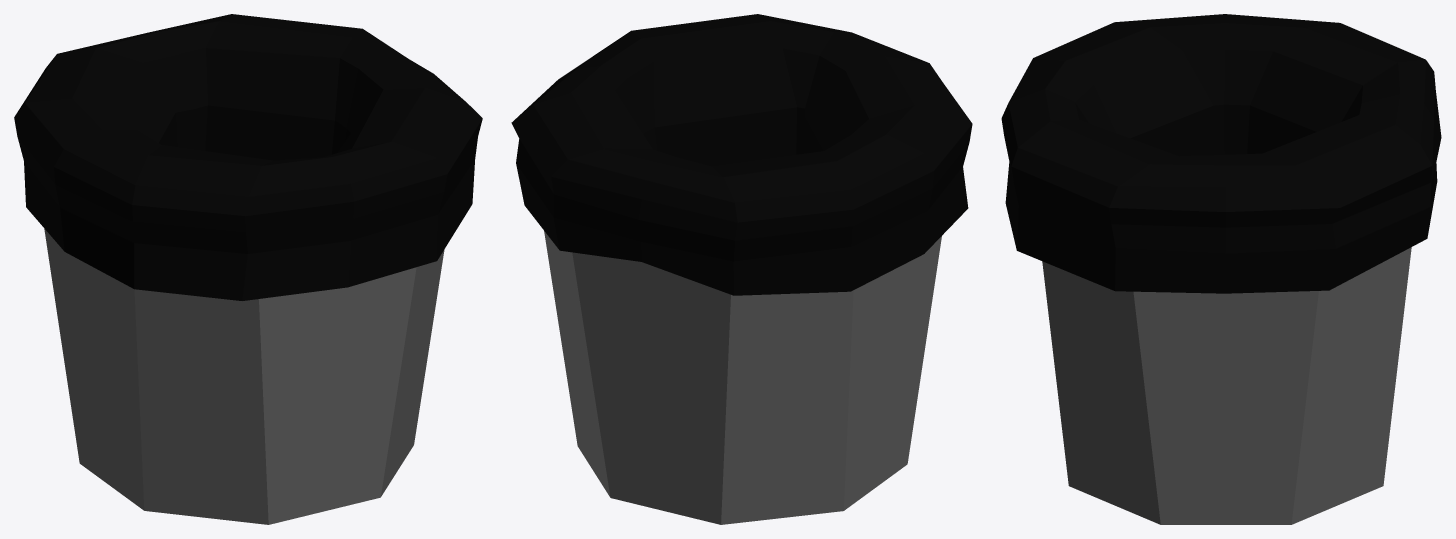
File: garbage.fbx
3 renders of one model, left to right at view 1: azimuth 30°, elevation 25°; view 2: azimuth 150°, elevation 25°; view 3: azimuth 270°, elevation 25°, orthographic. The views are drawn at different scales.
Parts seen in each view (by area): view 1: H_Garbage_1; view 2: H_Garbage_1; view 3: H_Garbage_1.
Boxes of the visible parts, x1,y1,x2,y2 form: H_Garbage_1: [14, 14, 482, 524]; H_Garbage_1: [511, 14, 972, 524]; H_Garbage_1: [1001, 14, 1441, 524].
Bounding box in the file's own units: 323 × 320 × 295.
